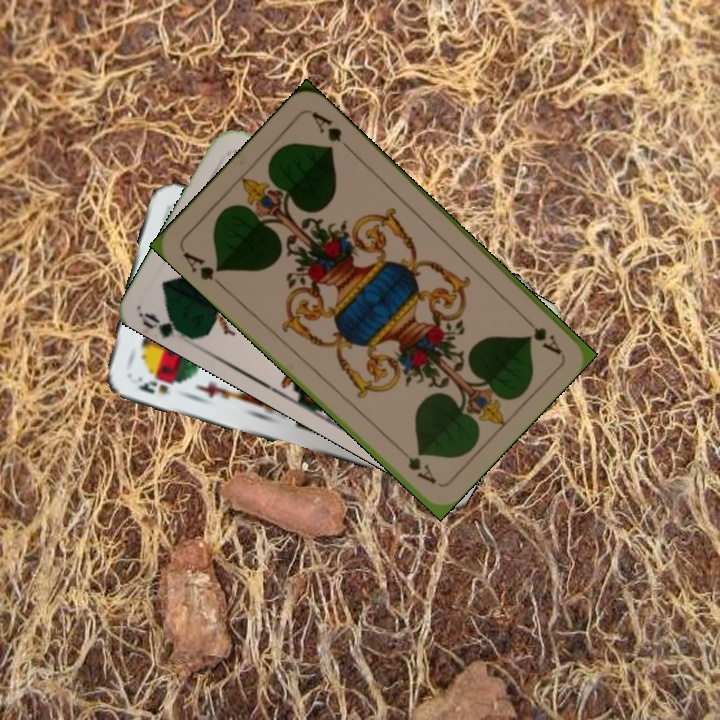GA: (516, 310, 564, 357), (178, 248, 227, 290)
GO: (138, 308, 197, 342)
SK: (133, 372, 171, 397)
